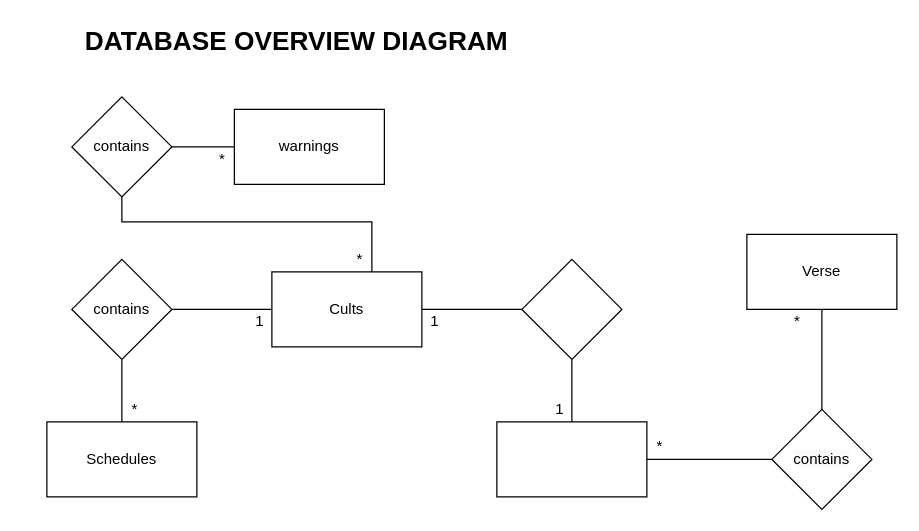
The diagram is 919 pixels wide and 531 high, and some of its shapes have lost their labels. Here are the shapes that lost their labels. From the top down, the centre of each, then its label:
[571,308]: belong
[571,459]: Mensagem
